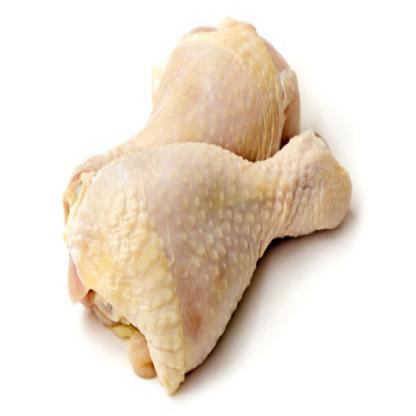chicken: (55, 127, 362, 402), (38, 7, 312, 236)
